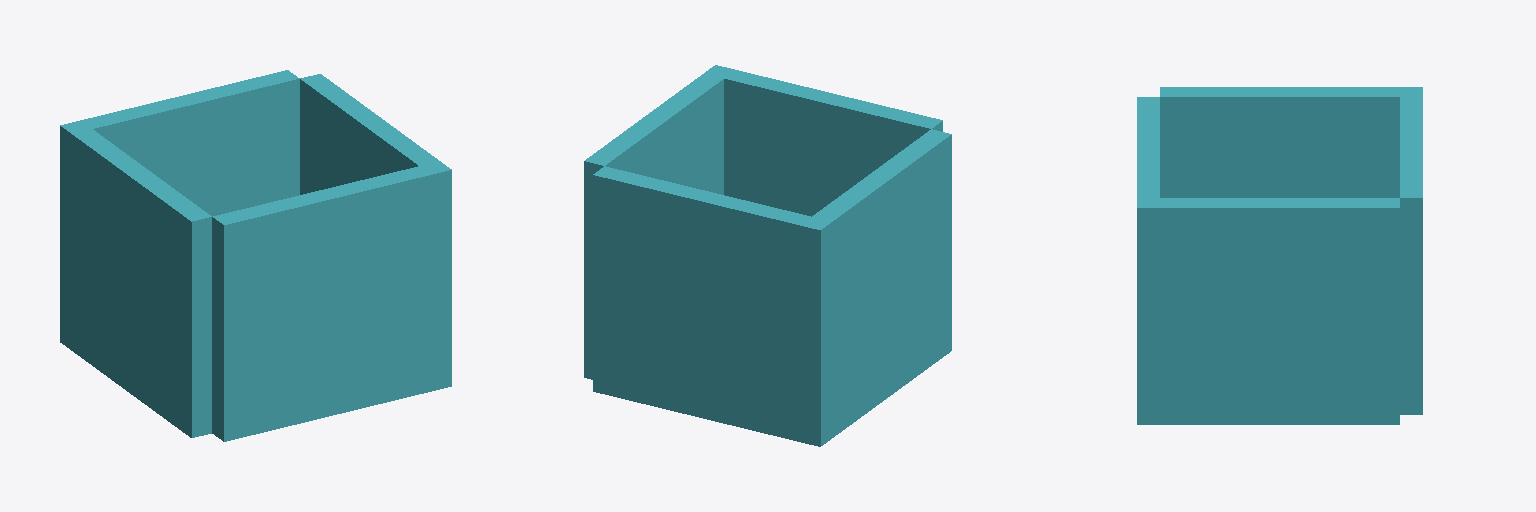
The model's file is wall.obj.
3 views of the same model, side by side, from view 1: azimuth 30°, elevation 25°; view 2: azimuth 150°, elevation 25°; view 3: azimuth 270°, elevation 25° (orthographic).
Visible parts, largest first — view 1: Cube.001, Cube; view 2: Cube, Cube.001; view 3: Cube.001, Cube.
Part boxes in pixels (x1,y1,x2,y2): Cube.001: (212,74,451,441); Cube: (60,70,299,437); Cube: (593,129,951,446); Cube.001: (584,65,942,379); Cube.001: (1137,97,1399,424); Cube: (1160,87,1422,414).
Size of the model in its own units: 2.4 by 2 by 2.4.